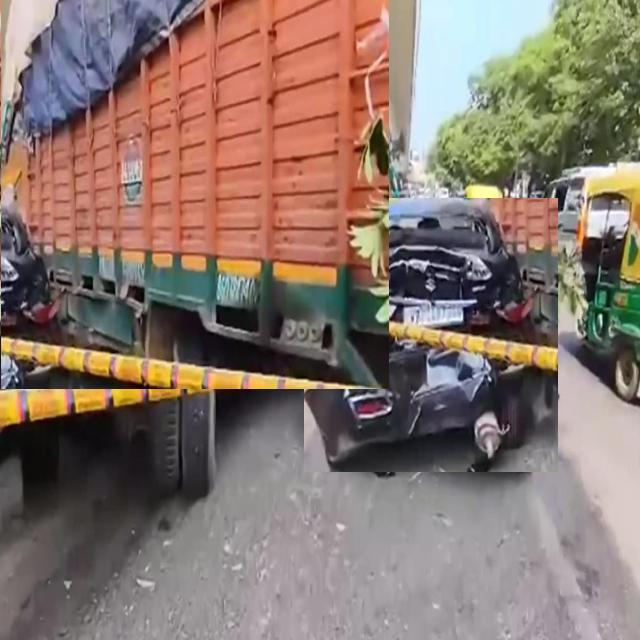accident: (304, 199, 558, 472)
autorickshaw: (579, 163, 640, 400)
car: (529, 167, 604, 276)
truck: (0, 0, 389, 389)
